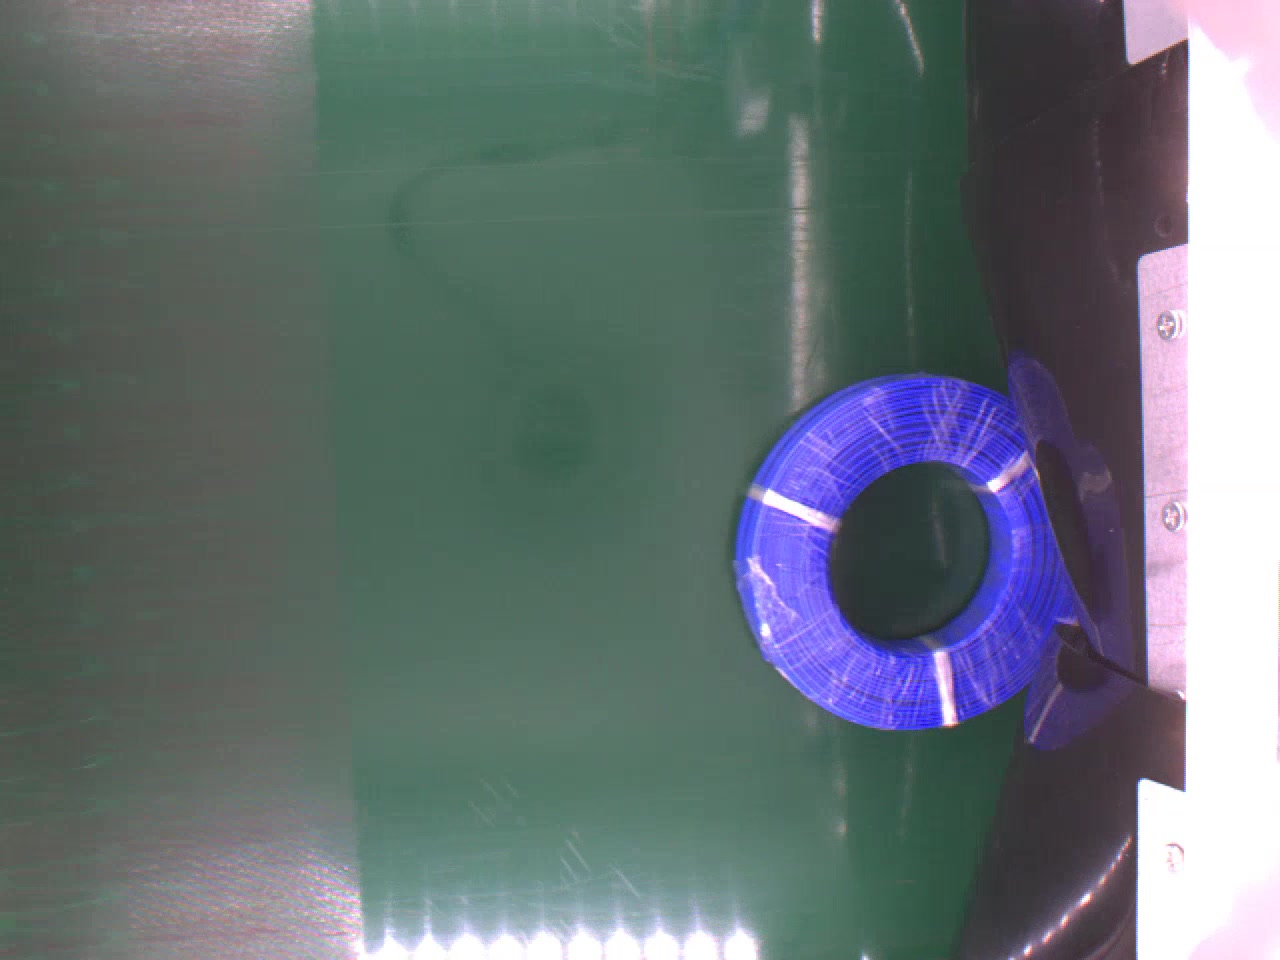blue: (730, 371, 1076, 728)
